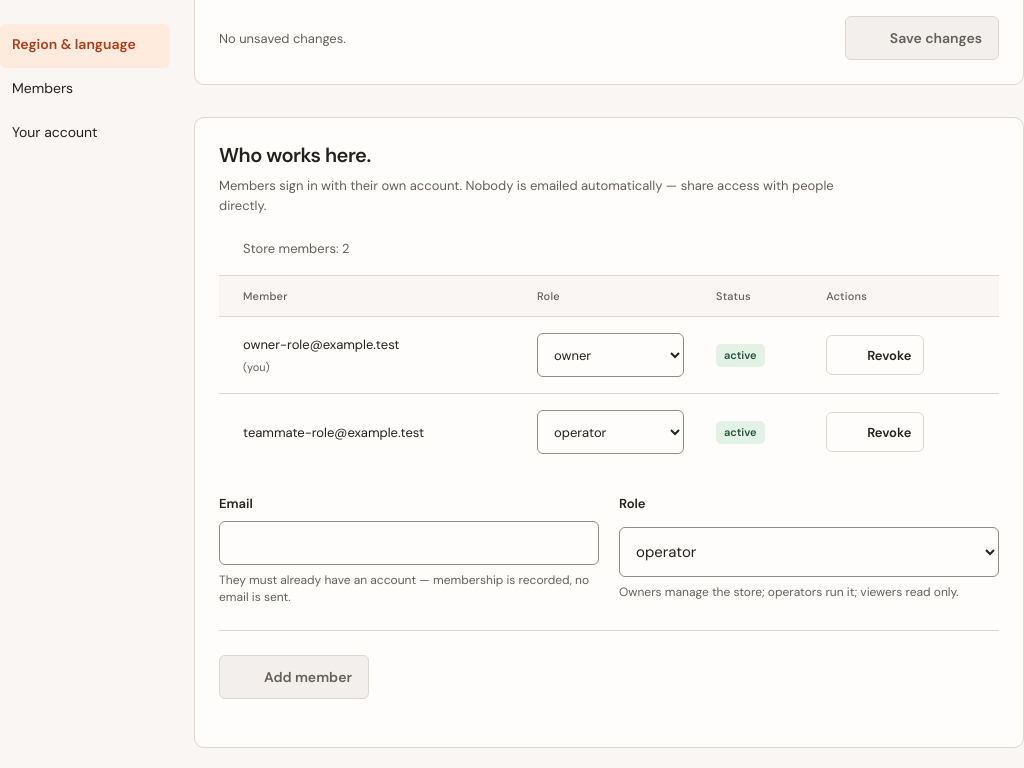
settings store members (owner-managed) › changes a role and states that the change takes effect immediately
(page scrolled)
Select "viewer" in the dropdown named "Role for teammate-role@example.test": [610, 432] box [537,410,684,454]
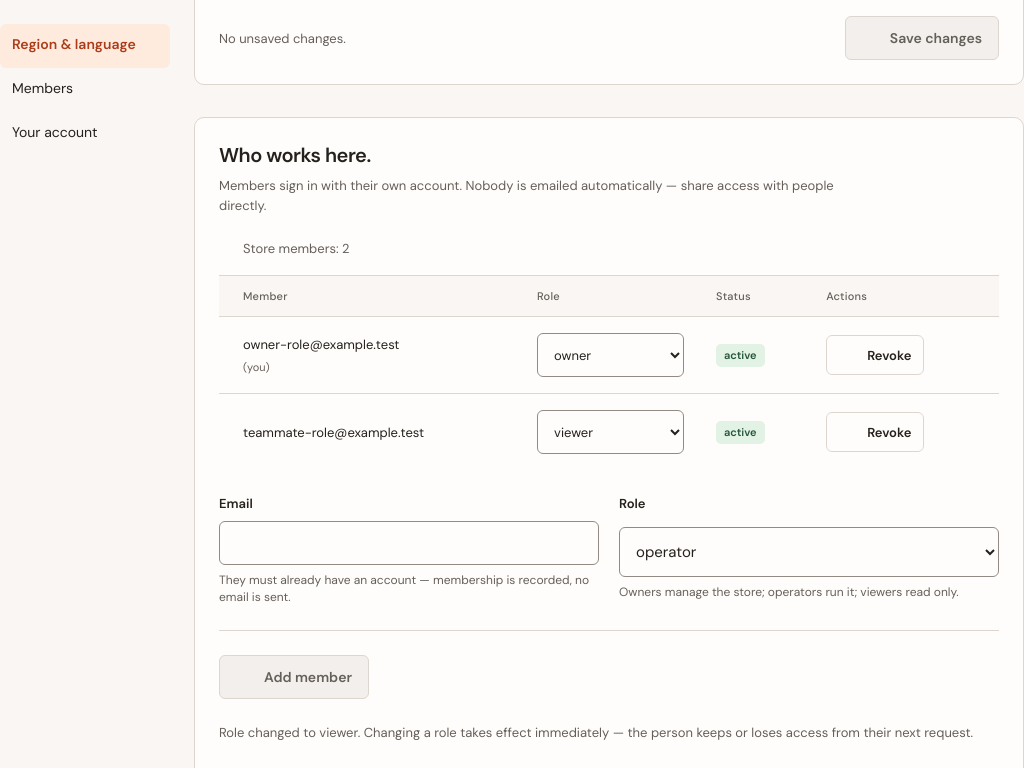
Check: the text "takes effect immediately — the person keeps or loses access" is shown, box [219,724,973,741]
